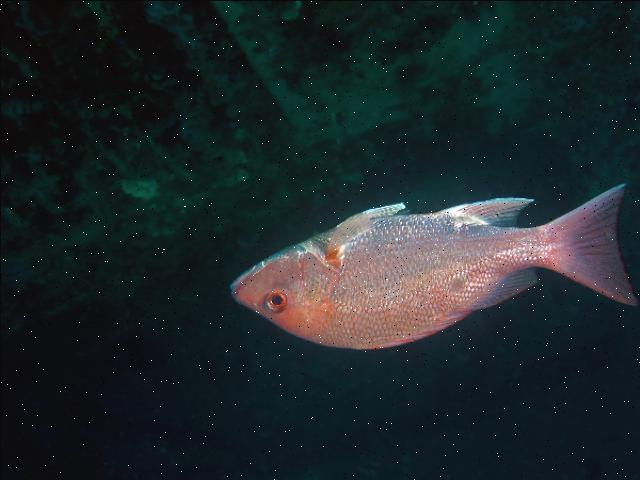Mulut: (212, 252, 278, 318)
Sirip Anal: (432, 180, 544, 234)
Sirip Dada: (316, 204, 380, 276)
Sirip Ekor: (536, 164, 640, 314)
Sirip Perut: (349, 182, 409, 224)
Sirip Punggung: (360, 256, 550, 350)
